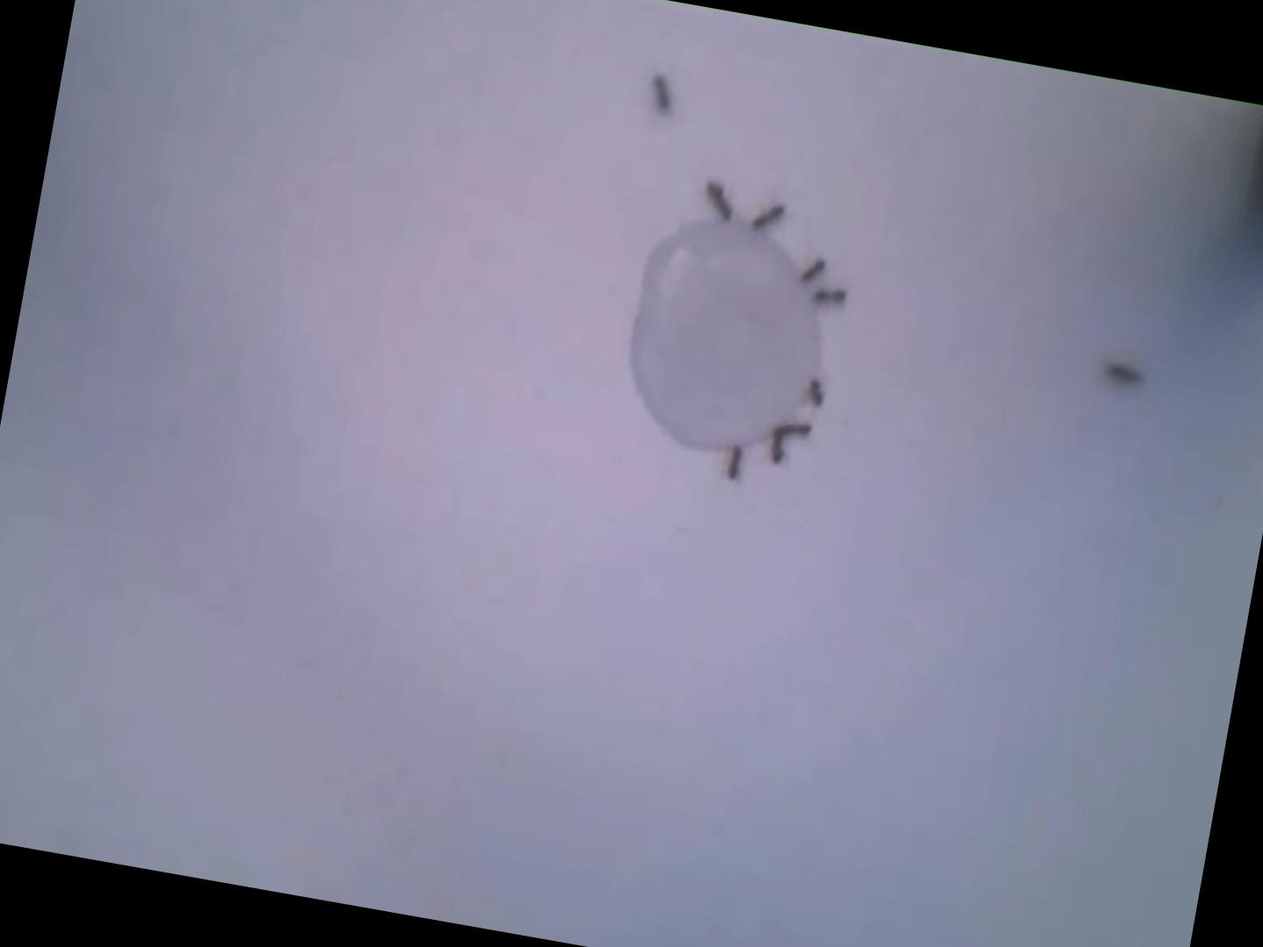Ant: (698, 178, 735, 220), (744, 196, 783, 234), (644, 71, 672, 114), (1101, 360, 1142, 389), (806, 281, 845, 310), (795, 253, 825, 286), (773, 416, 810, 442), (799, 376, 825, 409), (762, 427, 784, 463), (721, 442, 742, 479)
